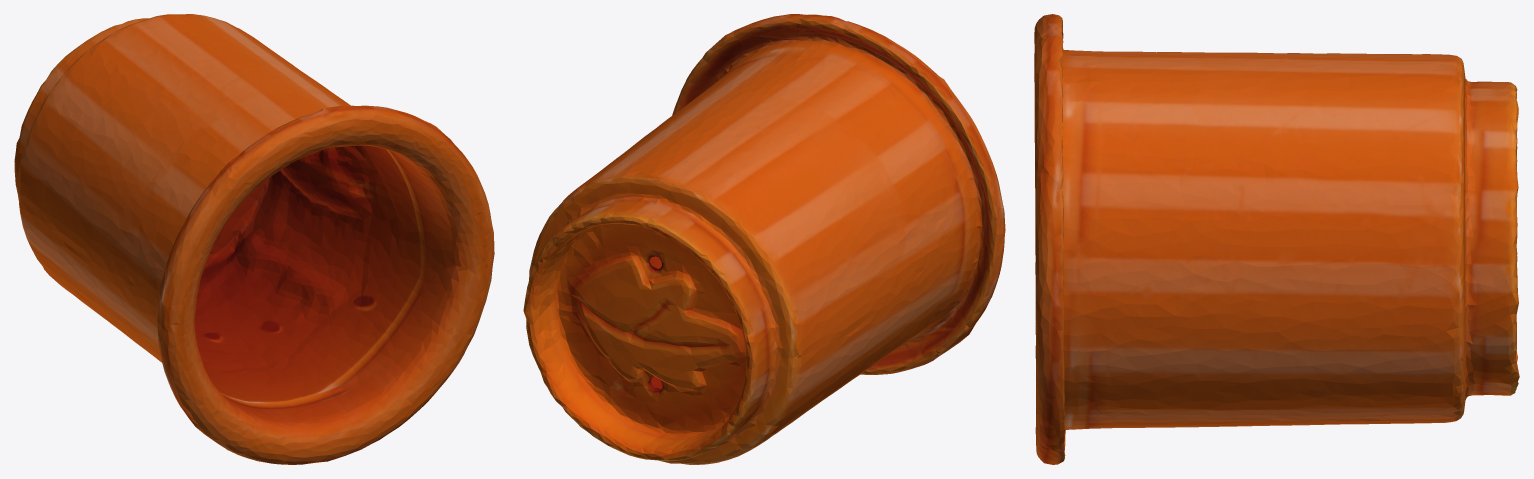
3 renders of one model, left to right at view 1: azimuth 30°, elevation 25°; view 2: azimuth 150°, elevation 25°; view 3: azimuth 270°, elevation 25°, orthographic. The views are drawn at different scales.
Visible parts, largest first — view 1: node; view 2: node; view 3: node.
Boxes of the visible parts, x1,y1,x2,y2 form: node: [14, 14, 494, 464]; node: [523, 14, 1005, 464]; node: [1034, 14, 1519, 464].
Bounding box in the file's own units: 0.0571 × 0.0574 × 0.0615.
Materials: 1 (1 with a texture image).
